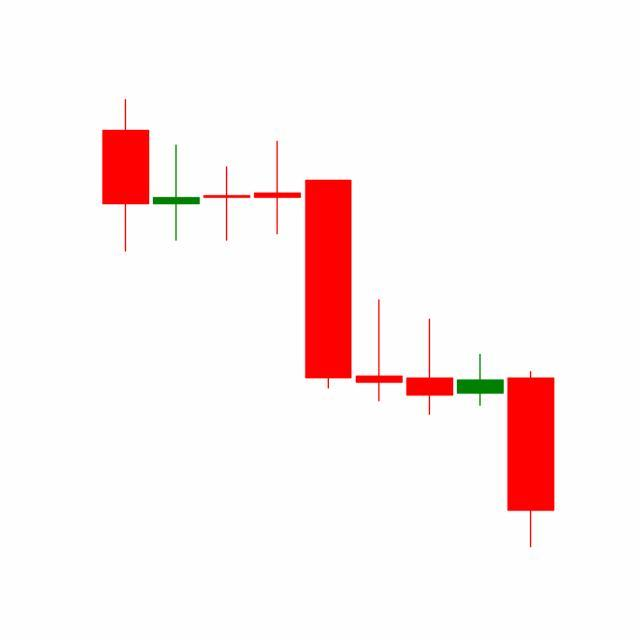Hikkake Pattern: (302, 175, 555, 548)
